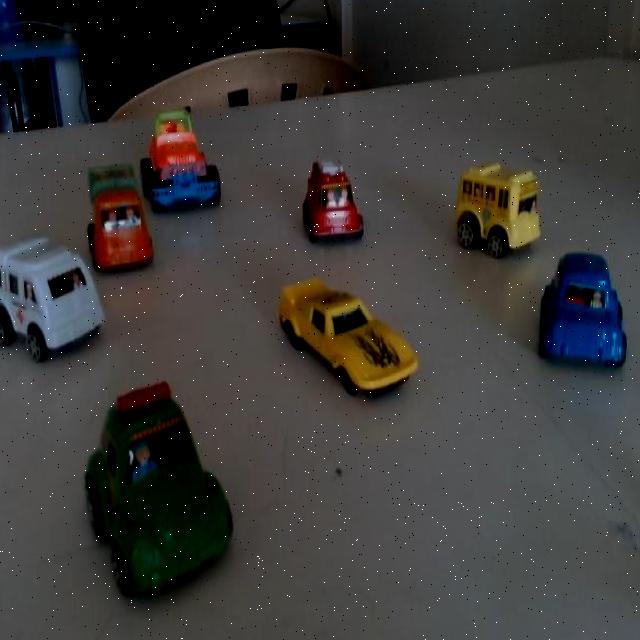car: (69, 388, 228, 580), (270, 268, 418, 403), (0, 215, 116, 386), (538, 252, 632, 374), (444, 161, 538, 268), (146, 102, 232, 210), (83, 152, 153, 275), (288, 148, 364, 256)
